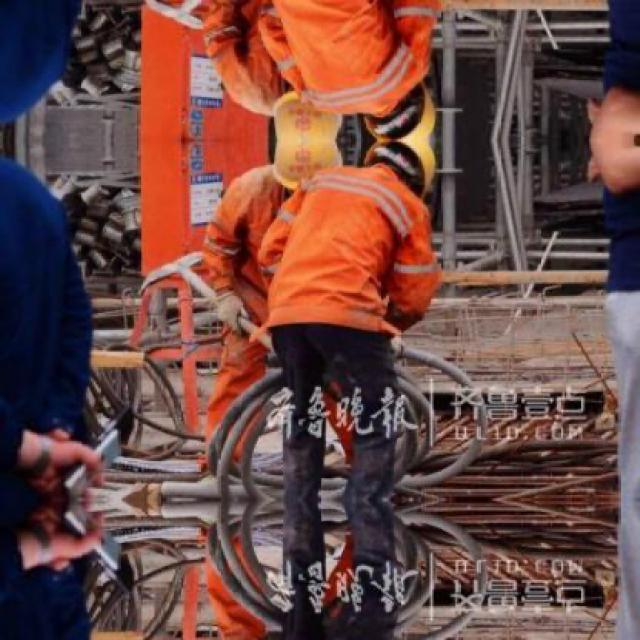helmet: (358, 86, 442, 139), (358, 142, 442, 194), (277, 140, 331, 183), (277, 97, 331, 140)
